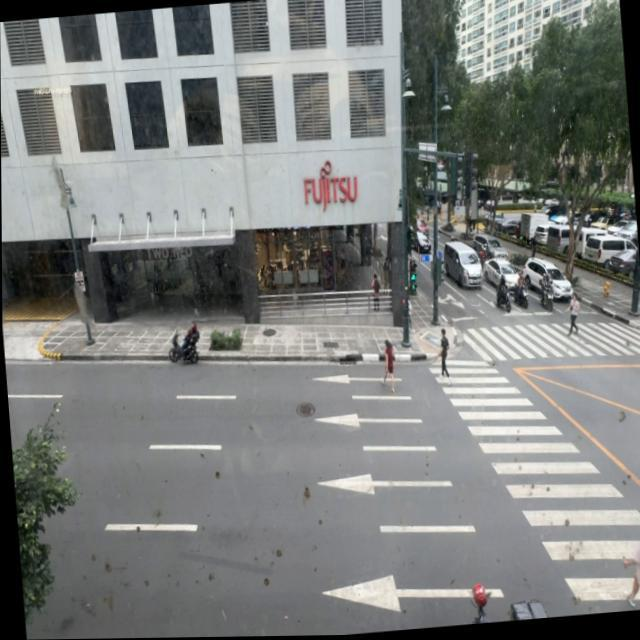jaywalking: (378, 340, 394, 392)
